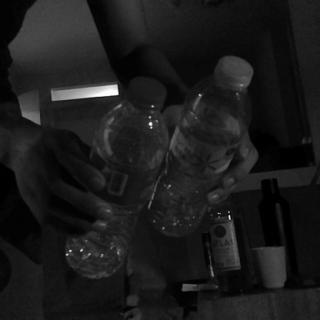plastic_bottles: (61, 75, 171, 281), (145, 56, 254, 235)
